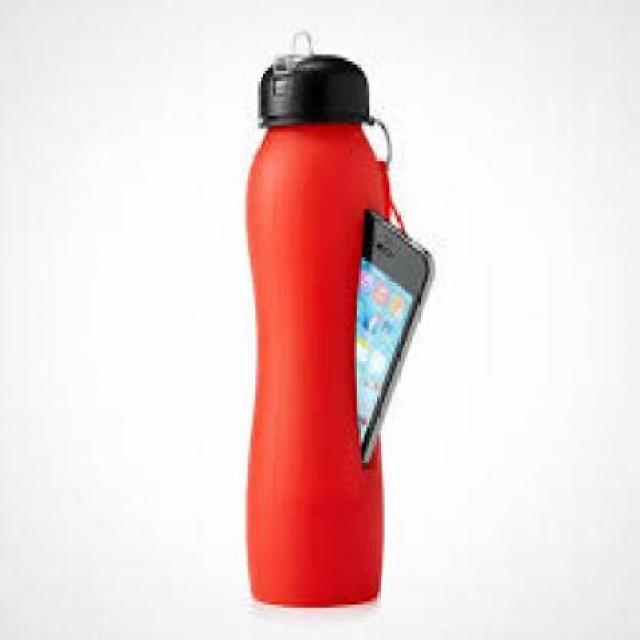Drinking: (246, 34, 359, 640)
Mobile: (340, 185, 454, 461)
